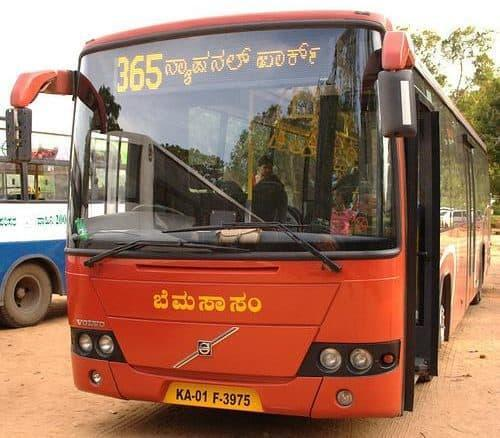Bus: (10, 8, 494, 422)
